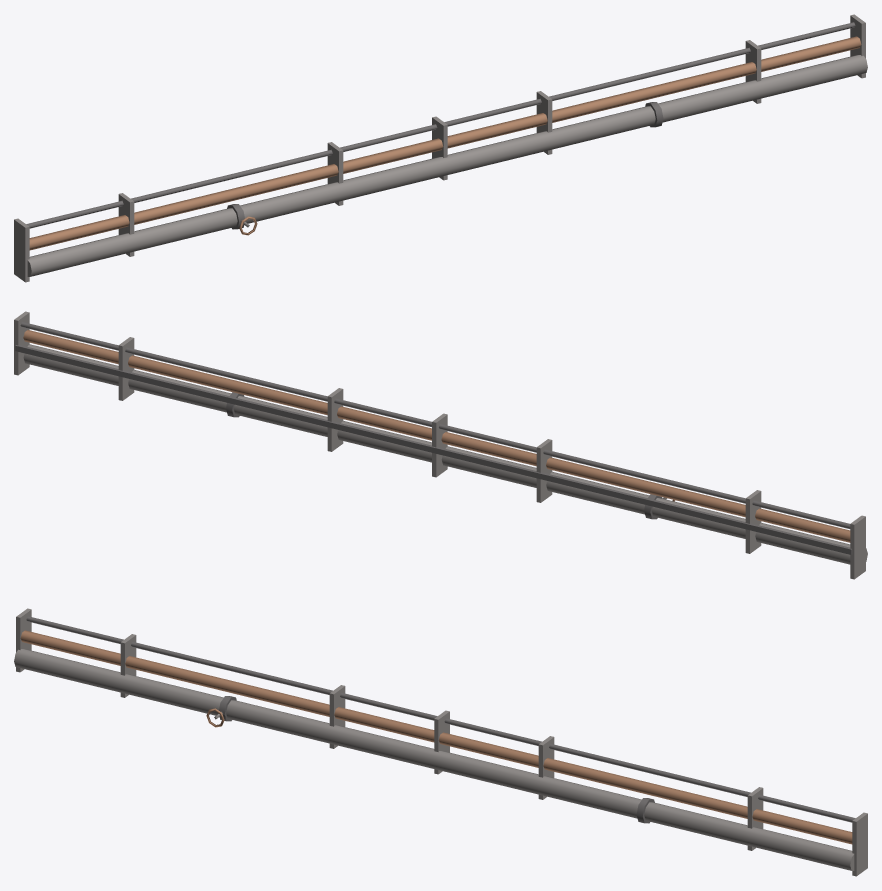
File: wall_pipes.glb
3 renders of one model, top to bottom at view 1: azimuth 30°, elevation 25°; view 2: azimuth 150°, elevation 25°; view 3: azimuth 330°, elevation 25°, orthographic.
Visible parts, largest first — view 1: iron, hookrust, irondark; view 2: iron, irondark, hookrust; view 3: iron, hookrust, irondark.
Boxes of the visible parts, x1,y1,x2,y2 form: iron: (14,14,867,282); hookrust: (29,36,861,250); irondark: (26,22,855,229); iron: (14,311,867,579); irondark: (15,322,852,554); hookrust: (23,330,850,542); iron: (14,608,867,876); hookrust: (20,630,852,844); irondark: (26,616,855,823).
Bounding box in the file's own units: 16.08 × 1 × 0.8217.
